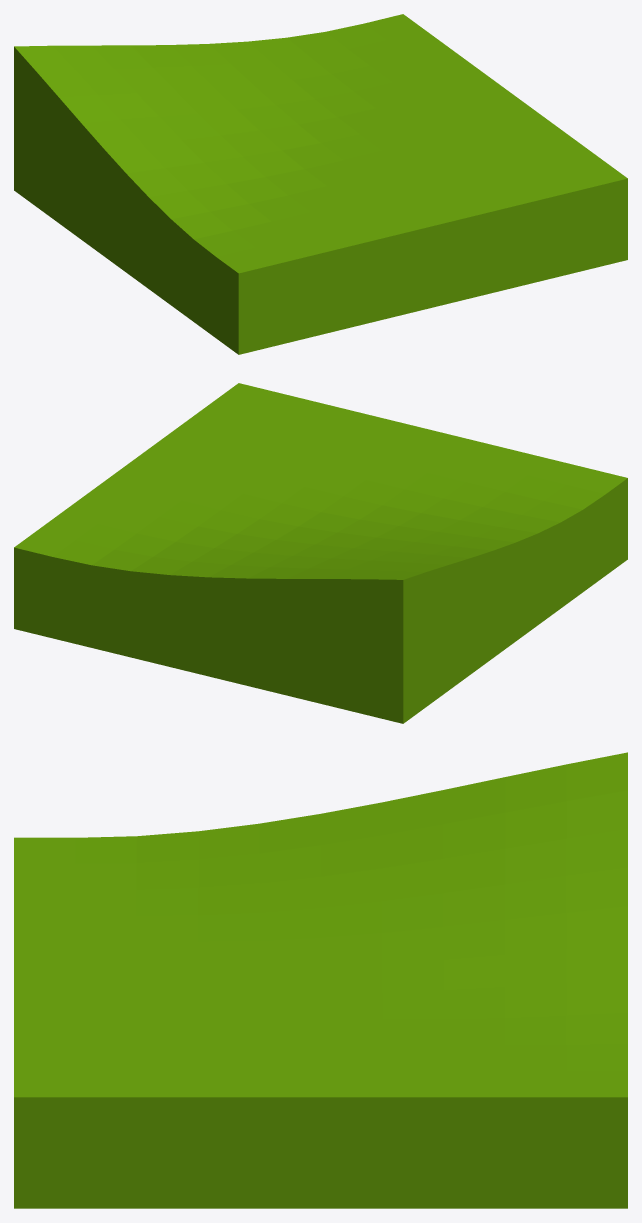
File: TileGround_43.fbx
The picture shows the model from 3 angles, top to bottom: view 1: azimuth 30°, elevation 25°; view 2: azimuth 150°, elevation 25°; view 3: azimuth 270°, elevation 25°; orthographic projection. The views are drawn at different scales.
Visible parts, largest first — view 1: TileGround_43; view 2: TileGround_43; view 3: TileGround_43.
Boxes of the visible parts, x1,y1,x2,y2 form: TileGround_43: (14,14,627,354); TileGround_43: (14,383,627,723); TileGround_43: (14,752,627,1208).
Bounding box in the file's own units: 500 × 177 × 500.
